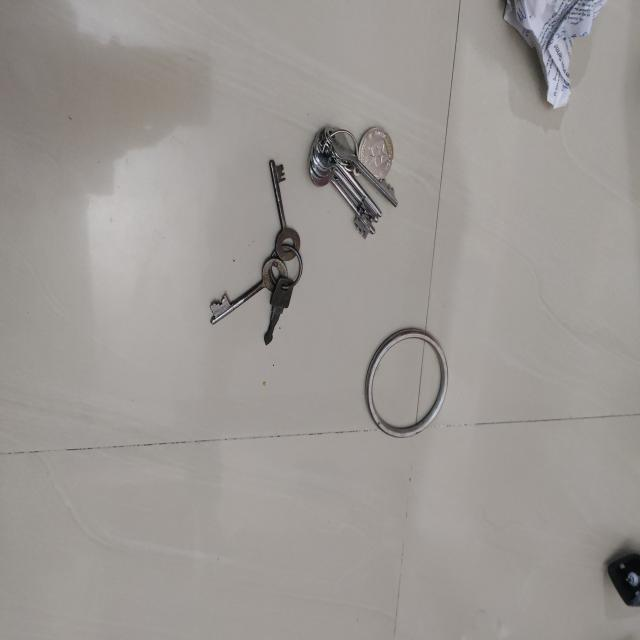dry: (209, 160, 305, 350), (503, 0, 609, 111), (307, 119, 400, 243), (364, 326, 448, 438), (607, 551, 640, 606)
